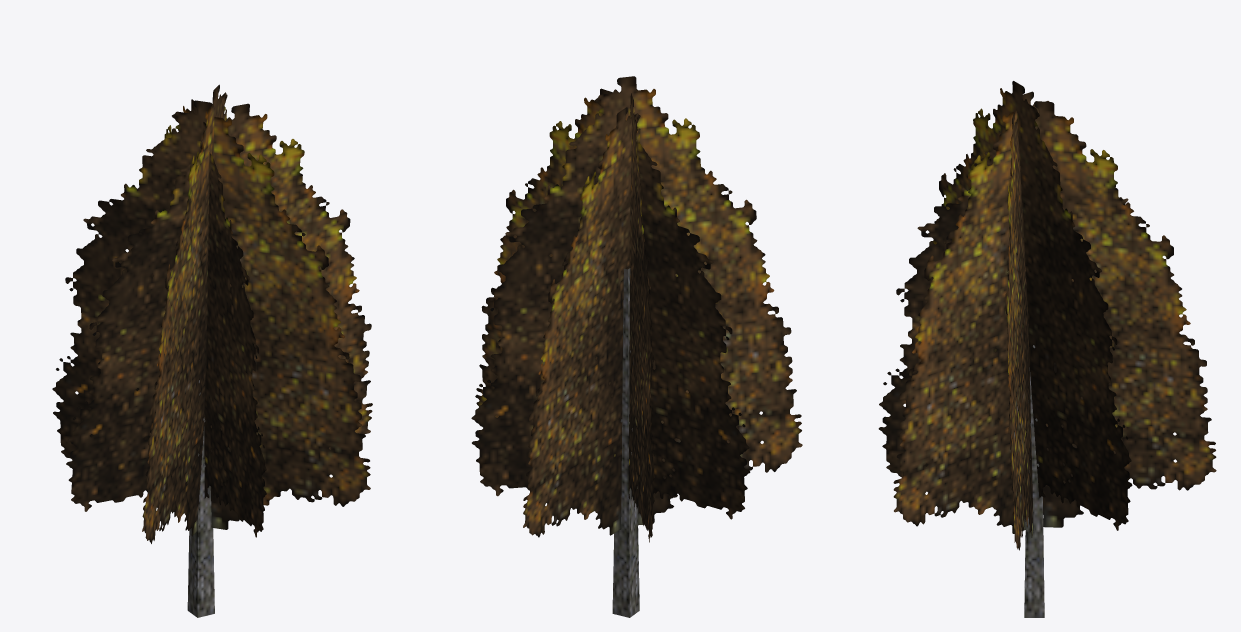
File: Tree_1.fbx
3 views of the same model, side by side, from view 1: azimuth 30°, elevation 25°; view 2: azimuth 150°, elevation 25°; view 3: azimuth 270°, elevation 25° (orthographic).
Parts seen in each view (by area): view 1: Tree.1; view 2: Tree.1; view 3: Tree.1.
Part boxes in pixels (box(x1,y1,x2,y2)): Tree.1: box(52, 84, 372, 617); Tree.1: box(471, 76, 802, 617); Tree.1: box(878, 81, 1216, 617).
Bounding box in the file's own units: 916 × 1363 × 869.
